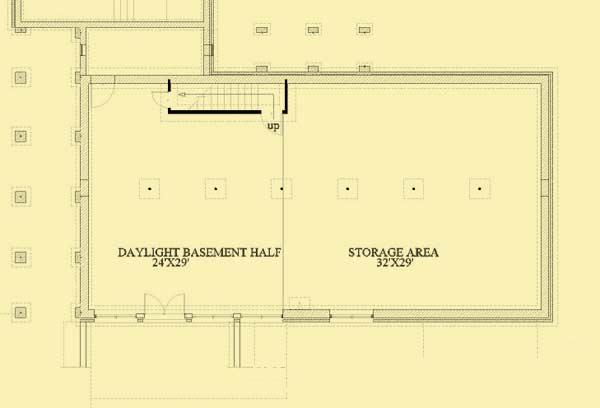door: (139, 292, 188, 318), (148, 88, 172, 112)
stairs: (169, 81, 287, 119)
window: (327, 308, 373, 325), (92, 308, 135, 324)
